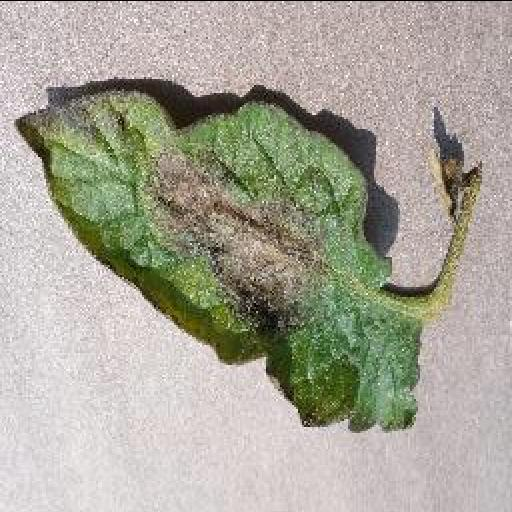disease_tomato: (12, 84, 426, 436)
